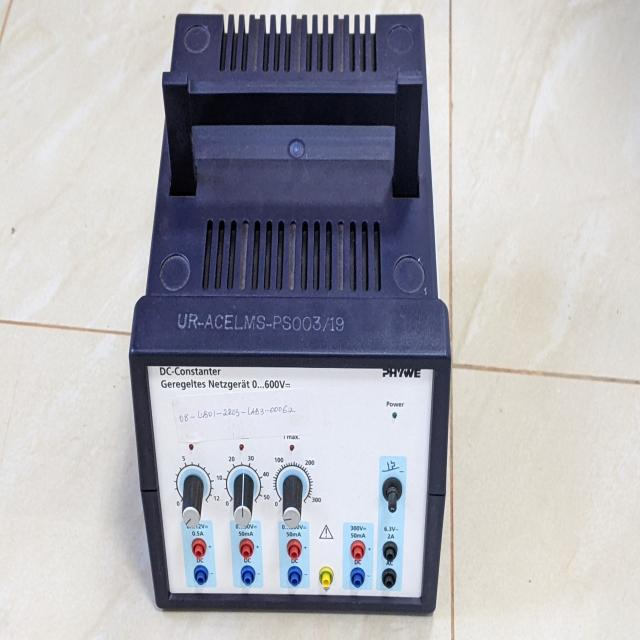Netzgerat Universal Power Supply: (119, 0, 471, 636)
